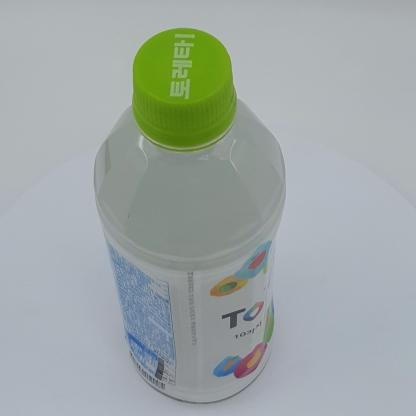-----500ML: (93, 28, 286, 404)
